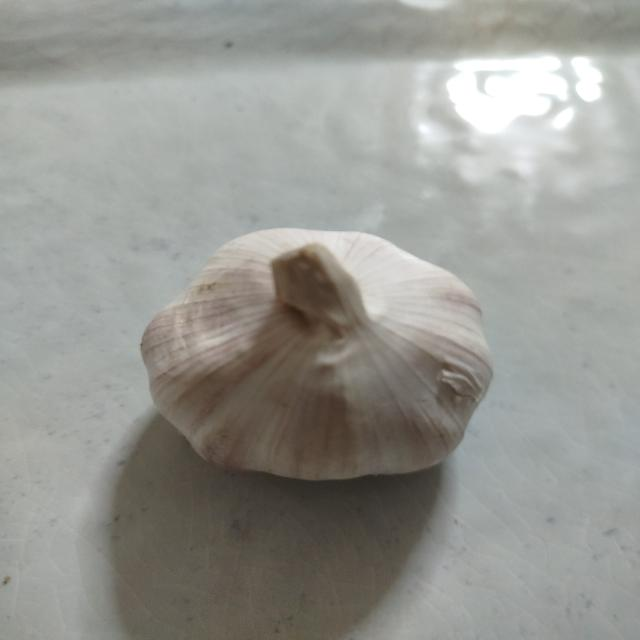garlic: (139, 227, 494, 481)
